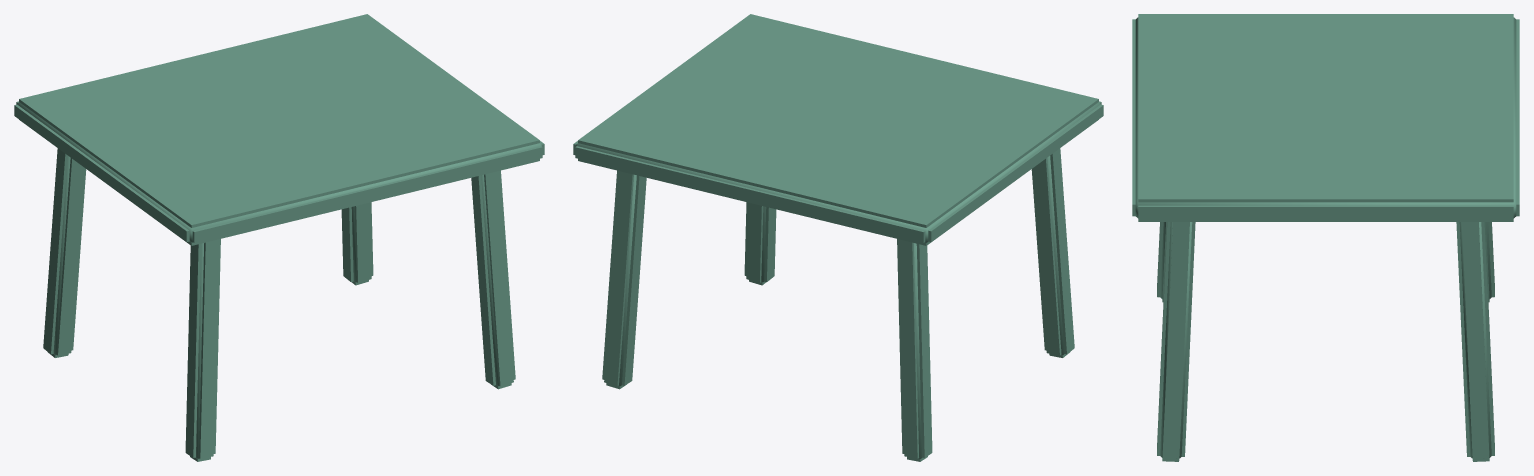
The model's file is PlasticTableLow.glb.
3 views of the same model, side by side, from view 1: azimuth 30°, elevation 25°; view 2: azimuth 150°, elevation 25°; view 3: azimuth 270°, elevation 25° (orthographic). The views are drawn at different scales.
Parts seen in each view (by area): view 1: ST_PlasticTableLow_ST_plastic_green.001; view 2: ST_PlasticTableLow_ST_plastic_green.001; view 3: ST_PlasticTableLow_ST_plastic_green.001.
Boxes of the visible parts, x1,y1,x2,y2 form: ST_PlasticTableLow_ST_plastic_green.001: [14, 14, 544, 461]; ST_PlasticTableLow_ST_plastic_green.001: [573, 14, 1103, 461]; ST_PlasticTableLow_ST_plastic_green.001: [1132, 14, 1519, 461].
Size of the model in its own units: 0.72 by 0.4812 by 0.62.
